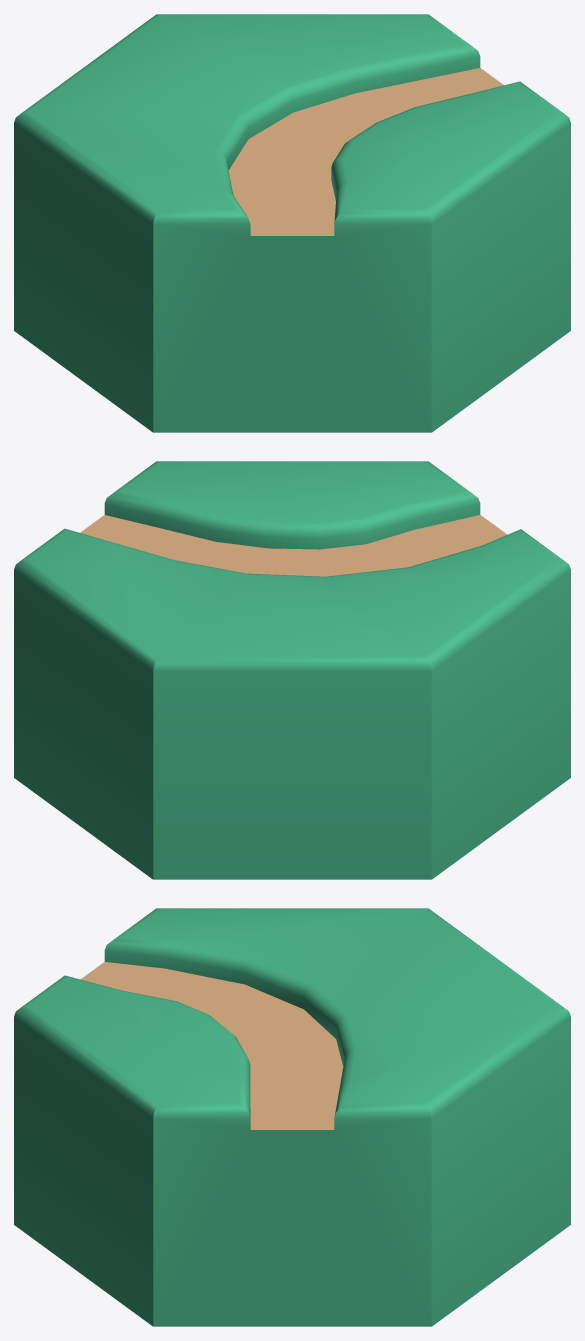
The model's file is hex_forest_roadD.glb.
3 views of the same model, one above another, from view 1: azimuth 30°, elevation 25°; view 2: azimuth 150°, elevation 25°; view 3: azimuth 270°, elevation 25° (orthographic).
Parts seen in each view (by area): view 1: hex_forest_roadD; view 2: hex_forest_roadD; view 3: hex_forest_roadD.
Boxes of the visible parts, left/top/right/bottom form: hex_forest_roadD: left=14, top=14, right=570, bottom=432; hex_forest_roadD: left=14, top=461, right=570, bottom=879; hex_forest_roadD: left=14, top=908, right=570, bottom=1326.
Bounding box in the file's own units: 2 × 1 × 2.31.
